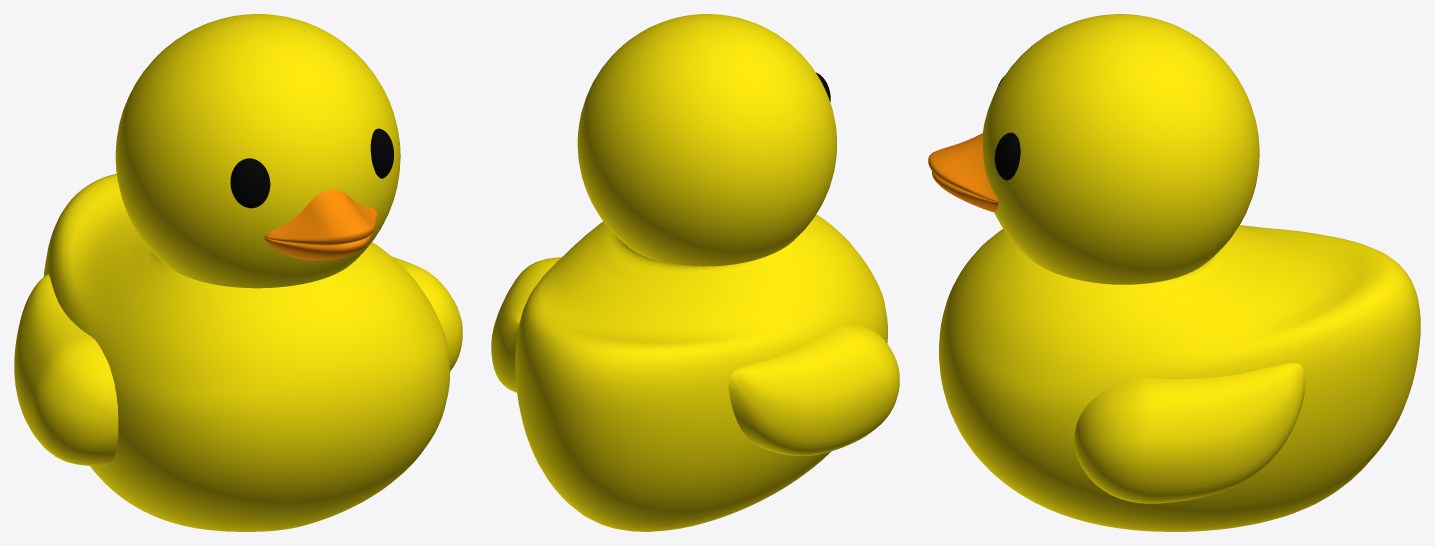
Rendered from uploads_files_2865107_Rubberduck.obj.
3 renders of one model, left to right at view 1: azimuth 30°, elevation 25°; view 2: azimuth 150°, elevation 25°; view 3: azimuth 270°, elevation 25°, orthographic. The views are drawn at different scales.
Parts seen in each view (by area): view 1: object_3, object_4, object_6, object_5, object_7, object_2, object_1; view 2: object_3, object_4, object_6, object_7; view 3: object_3, object_4, object_7, object_5, object_1.
Boxes of the visible parts, x1,y1,x2,y2 form: object_3: [43, 174, 450, 531]; object_4: [115, 14, 400, 288]; object_6: [14, 274, 118, 465]; object_5: [263, 189, 377, 260]; object_7: [392, 256, 462, 370]; object_2: [230, 158, 270, 208]; object_1: [370, 128, 393, 178]; object_3: [515, 214, 887, 531]; object_4: [577, 14, 836, 266]; object_6: [728, 321, 899, 455]; object_7: [491, 257, 561, 392]; object_3: [939, 225, 1420, 531]; object_4: [982, 14, 1259, 284]; object_7: [1074, 363, 1305, 503]; object_5: [928, 133, 998, 212]; object_1: [994, 132, 1020, 180].
Bounding box in the file's own units: 88.88 × 101 × 93.24.
